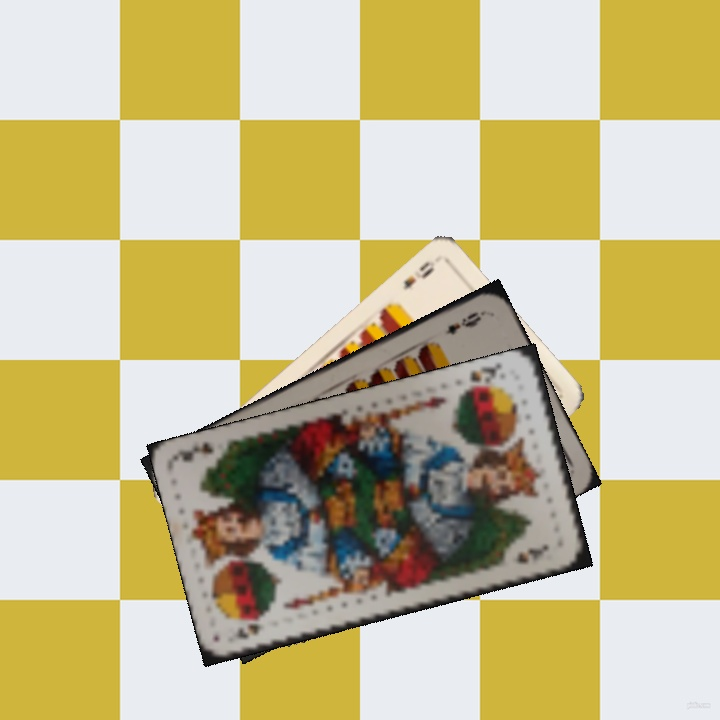E9: (442, 307, 487, 338), (399, 257, 438, 292)
SK: (459, 360, 505, 397), (231, 618, 266, 641)
